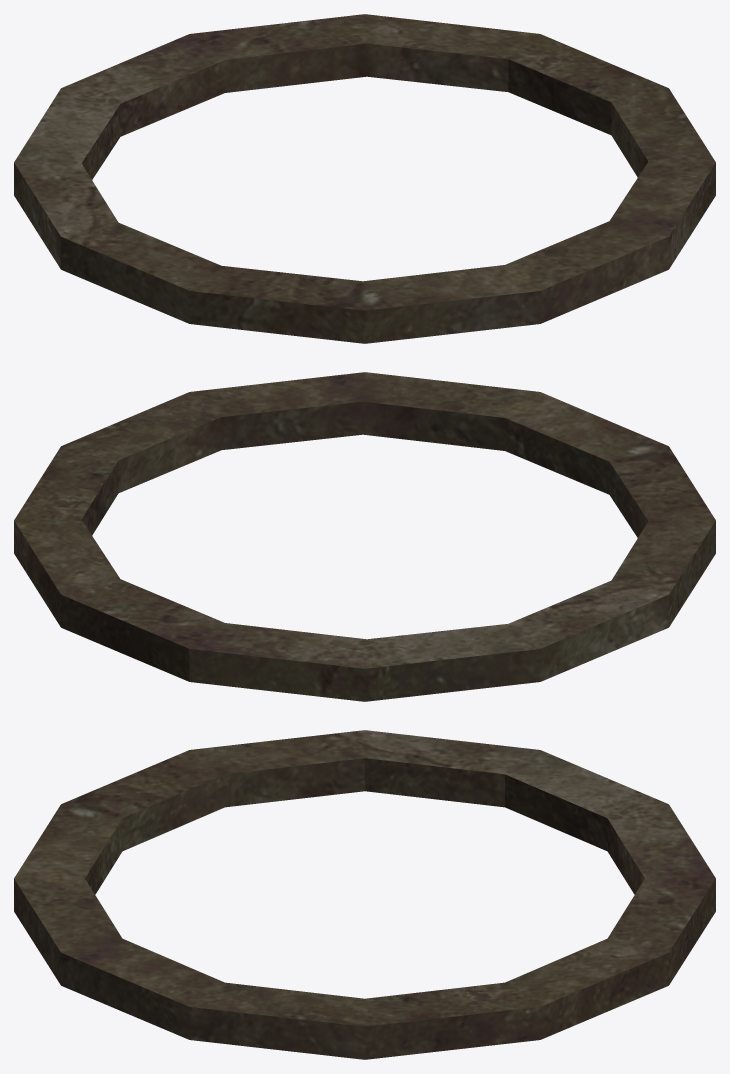
Rendered from TI_IronCircle_01.fbx.
3 views of the same model, one above another, from view 1: azimuth 30°, elevation 25°; view 2: azimuth 150°, elevation 25°; view 3: azimuth 270°, elevation 25° (orthographic).
Visible parts, largest first — view 1: TI_IronCircle_01; view 2: TI_IronCircle_01; view 3: TI_IronCircle_01.
Boxes of the visible parts, <box> form: TI_IronCircle_01: <box>14,14,715,343</box>; TI_IronCircle_01: <box>14,372,715,701</box>; TI_IronCircle_01: <box>14,730,715,1059</box>.
Bounding box in the file's own units: 0.4101 × 0.0213 × 0.4101.
